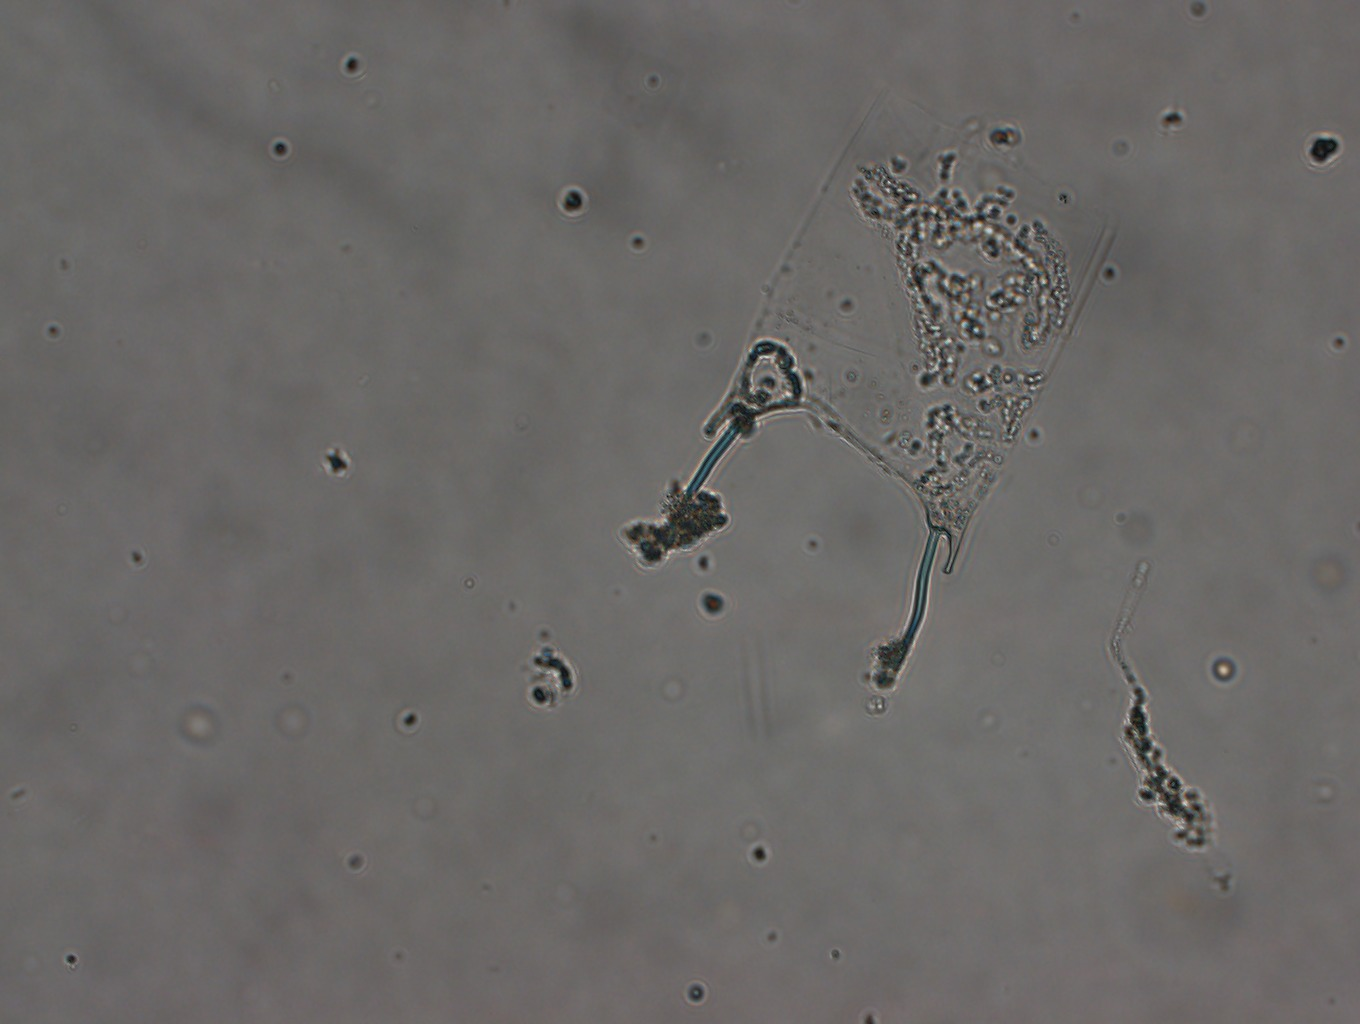biddulphia: (672, 48, 1122, 653)
